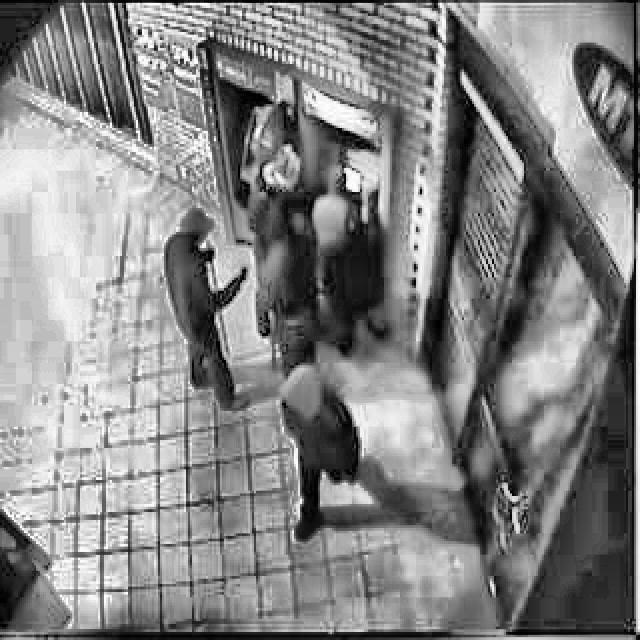burglary: (160, 91, 384, 414)
